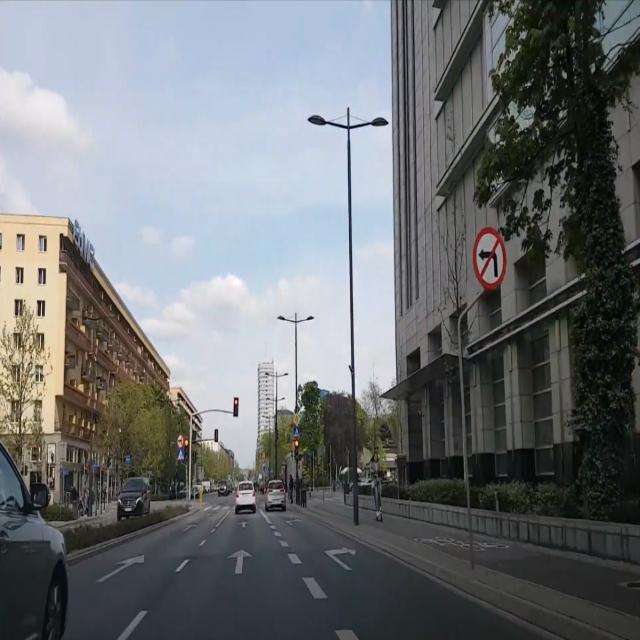Droga z pierwszenstwem: (292, 413, 301, 427)
